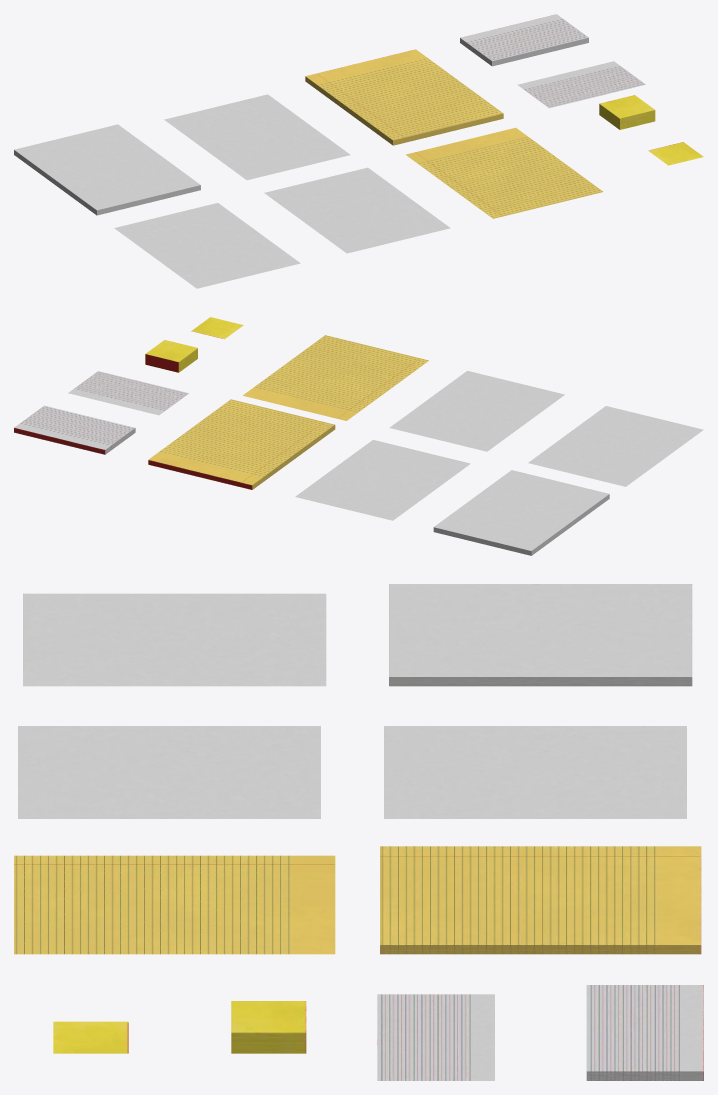
The model's file is office_notepads.glb.
The picture shows the model from 3 angles, top to bottom: view 1: azimuth 30°, elevation 25°; view 2: azimuth 150°, elevation 25°; view 3: azimuth 270°, elevation 25°; orthographic projection. The views are drawn at different scales.
Visible parts, largest first — view 1: office_notepads_yellow_sheet; view 2: office_notepads_yellow_sheet; view 3: office_notepads_yellow_sheet.
Part boxes in pixels (left/top/right/bottom): office_notepads_yellow_sheet: left=14, top=14, right=703, bottom=288; office_notepads_yellow_sheet: left=14, top=317, right=703, bottom=555; office_notepads_yellow_sheet: left=14, top=584, right=703, bottom=1080.
Size of the model in its own units: 1.1 by 0.0219 by 0.6598.
Materials: 1 (1 with a texture image).
